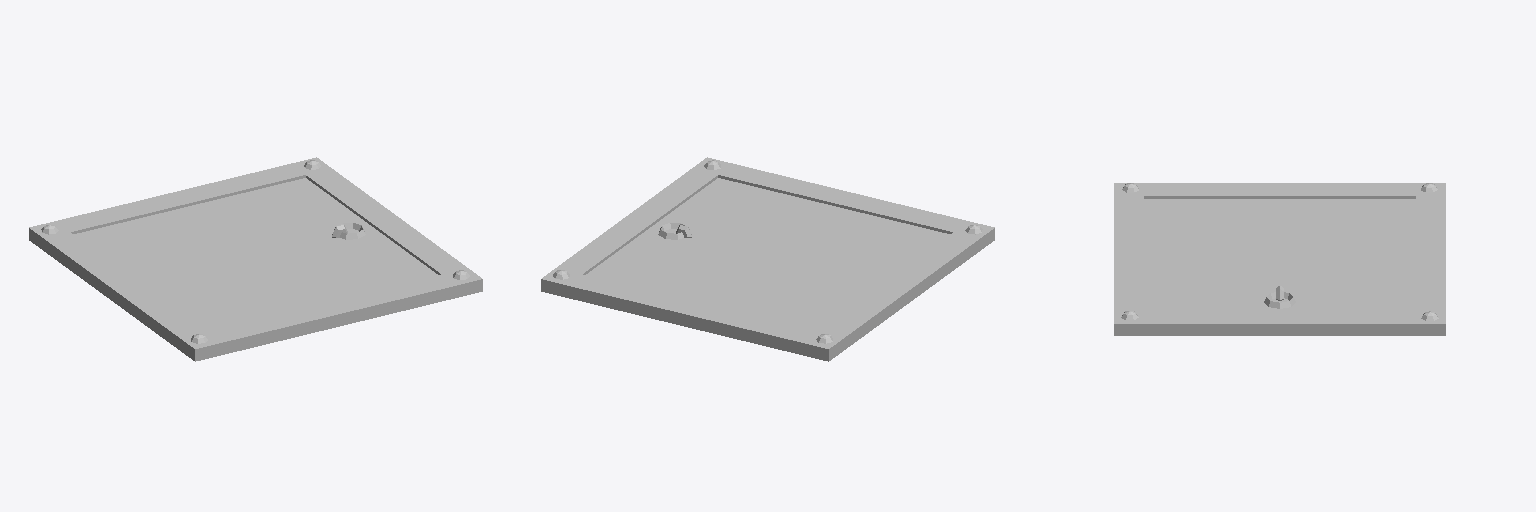
File: trapdoor.obj
3 views of the same model, side by side, from view 1: azimuth 30°, elevation 25°; view 2: azimuth 150°, elevation 25°; view 3: azimuth 270°, elevation 25° (orthographic).
Parts seen in each view (by area): view 1: Cube; view 2: Cube; view 3: Cube.
Part boxes in pixels (bbox=[...]): Cube: bbox=[29, 157, 482, 361]; Cube: bbox=[541, 157, 994, 361]; Cube: bbox=[1114, 183, 1445, 335].
Size of the model in its own units: 2 by 0.1299 by 2.